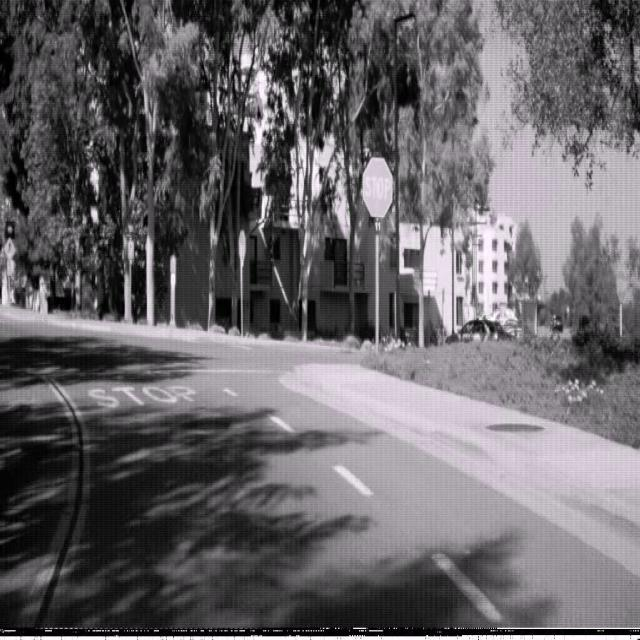stop_sign: (362, 157, 392, 218), (616, 267, 628, 303)
